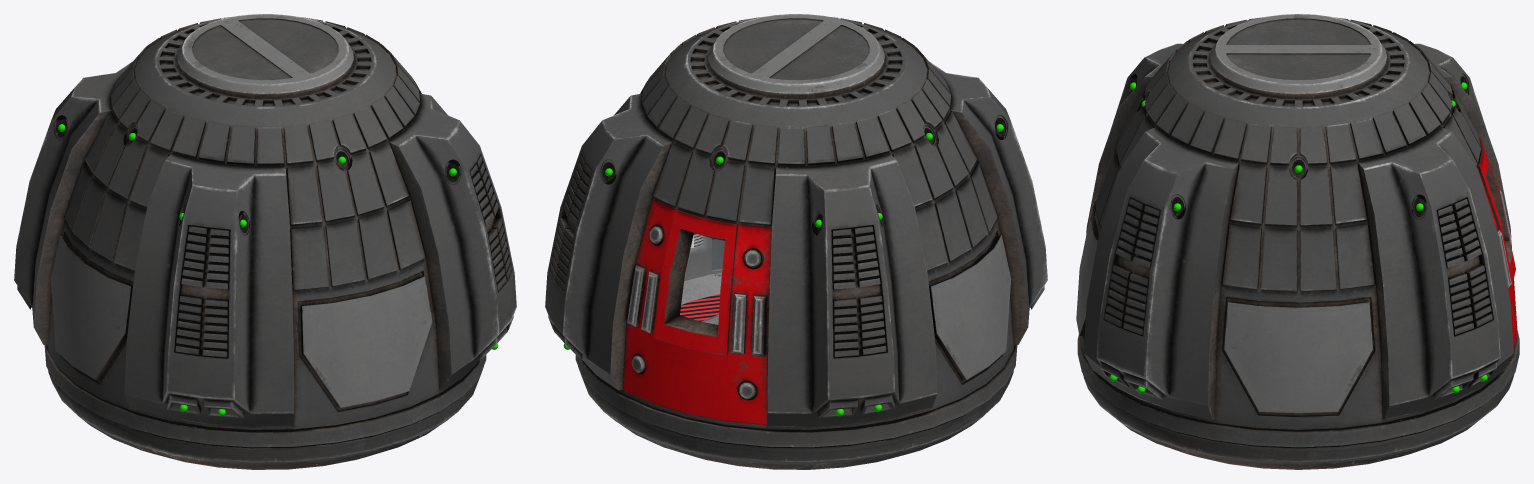
The model's file is drop_pod.glb.
The picture shows the model from 3 angles, left to right: view 1: azimuth 30°, elevation 25°; view 2: azimuth 150°, elevation 25°; view 3: azimuth 270°, elevation 25°; orthographic projection.
Visible parts, largest first — view 1: drooPod-col; view 2: drooPod-col, dropPodDoor-col; view 3: drooPod-col, dropPodDoor-col.
Boxes of the visible parts, box(x1,y1,x2,y2) form: drooPod-col: box(14, 14, 516, 469); drooPod-col: box(545, 14, 1047, 469); dropPodDoor-col: box(622, 198, 771, 425); drooPod-col: box(1076, 14, 1519, 469); dropPodDoor-col: box(1476, 136, 1517, 349).
Bounding box in the file's own units: 7.8 × 7.17 × 7.78.
9 materials, 5 textured.
